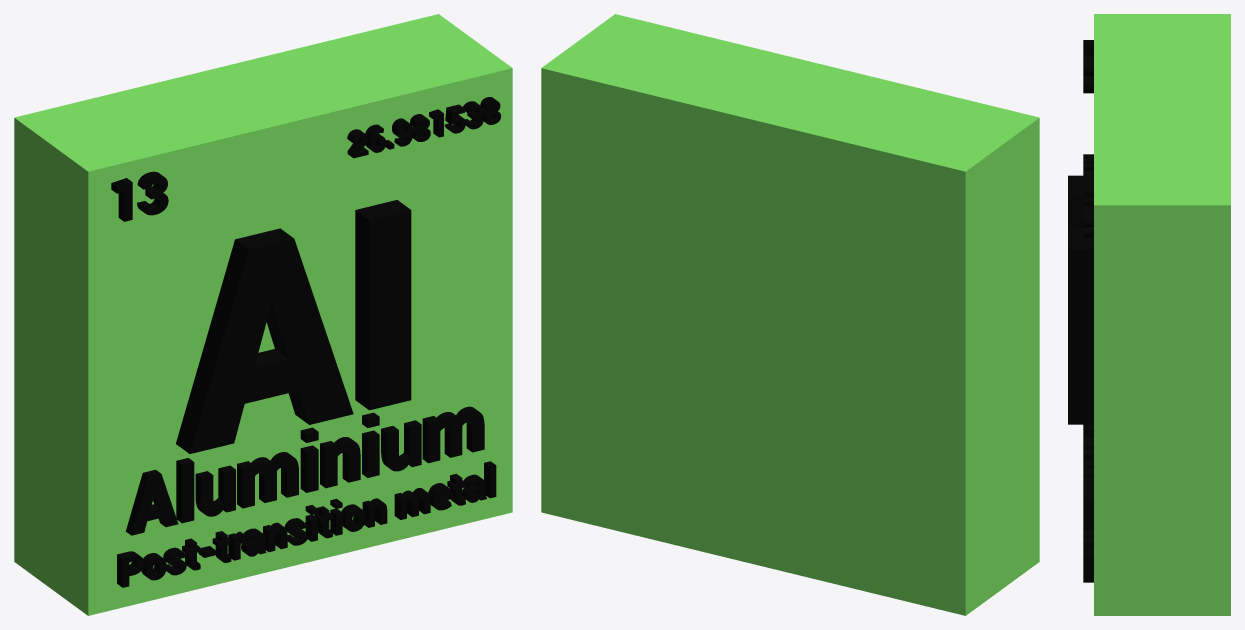
The picture shows the model from 3 angles, left to right: view 1: azimuth 30°, elevation 25°; view 2: azimuth 150°, elevation 25°; view 3: azimuth 270°, elevation 25°; orthographic projection. The views are drawn at different scales.
Visible parts, largest first — view 1: Cube, Text, Text.001, Text.002, Text.004, Text.003; view 2: Cube; view 3: Cube, Text, Text.001, Text.004, Text.003, Text.002.
Part boxes in pixels (x1,y1,x2,y2): Cube: (14,14,512,615); Text: (176,200,411,453); Text.001: (126,406,484,535); Text.002: (117,461,496,587); Text.004: (347,97,501,158); Text.003: (111,171,168,221); Cube: (541,14,1039,615); Cube: (1094,14,1230,615); Text: (1068,175,1093,424); Text.001: (1083,424,1093,530); Text.004: (1083,154,1093,237); Text.003: (1083,40,1093,93); Text.002: (1083,531,1093,582).
Size of the model in its own units: 178 by 178 by 63.95.
